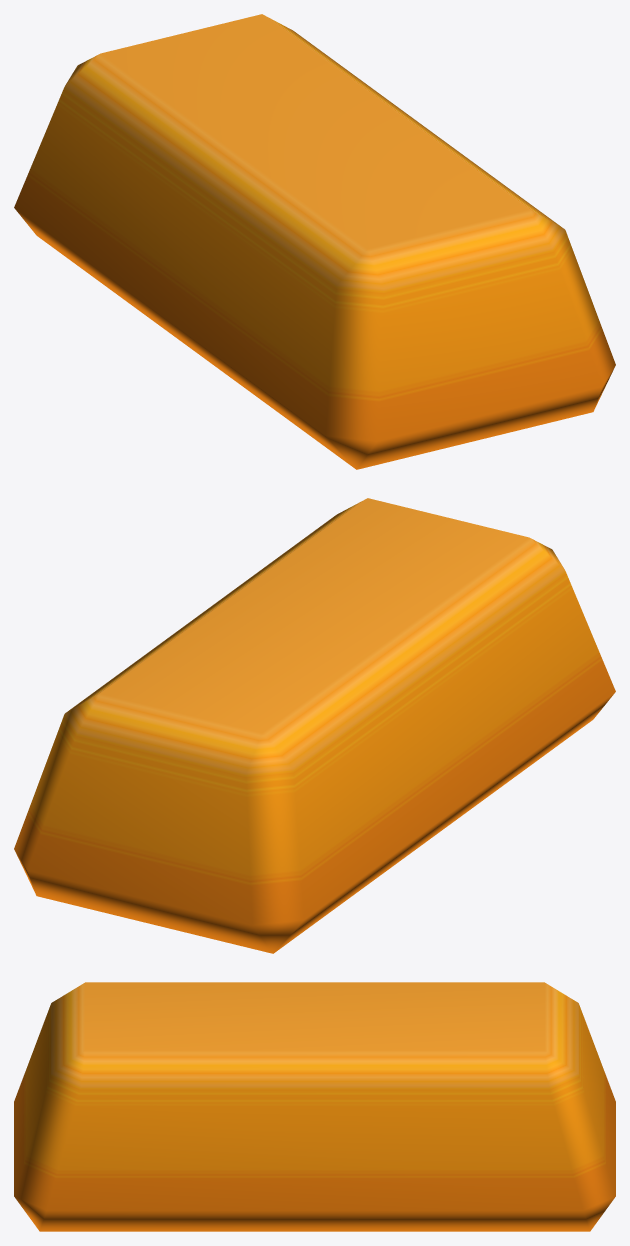
The model's file is gold-ingot-01.glb.
The picture shows the model from 3 angles, top to bottom: view 1: azimuth 30°, elevation 25°; view 2: azimuth 150°, elevation 25°; view 3: azimuth 270°, elevation 25°; orthographic projection. The views are drawn at different scales.
Visible parts, largest first — view 1: Gold_Ingot_01; view 2: Gold_Ingot_01; view 3: Gold_Ingot_01.
Boxes of the visible parts, x1=… form: Gold_Ingot_01: x1=14, y1=14, x2=615, y2=469; Gold_Ingot_01: x1=14, y1=498, x2=615, y2=953; Gold_Ingot_01: x1=14, y1=982, x2=615, y2=1231.
Bounding box in the file's own units: 0.1783 × 0.1129 × 0.372.
Materials: 1 (1 with a texture image).
